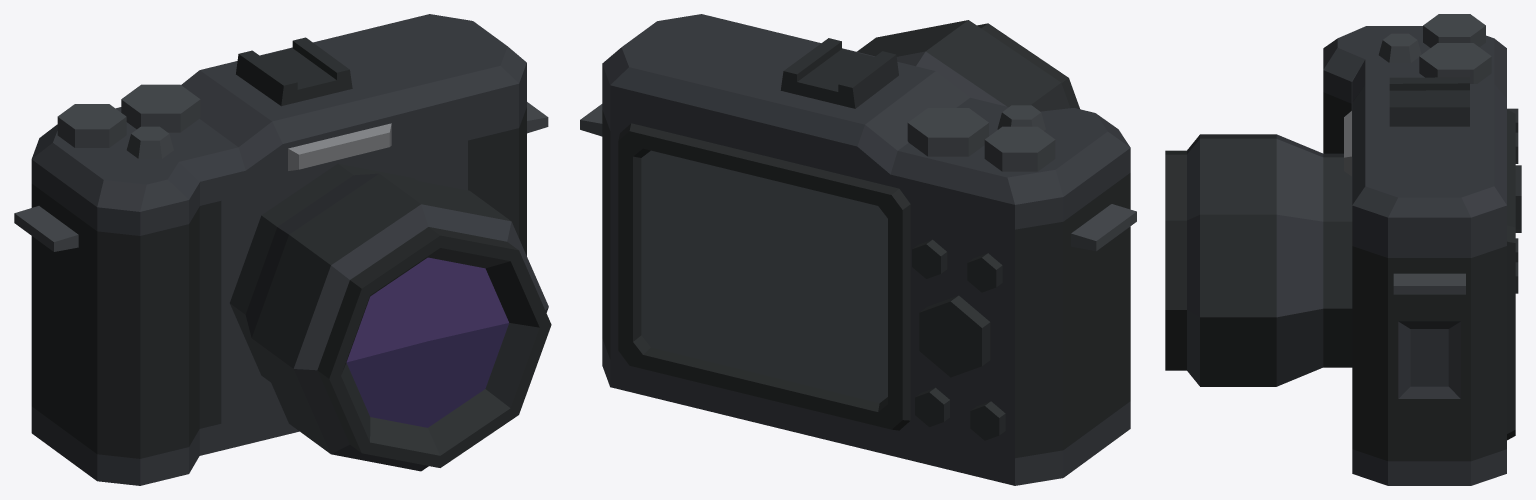
The model's file is SM_Prop_Computer_Camera_Mirrorless_02.obj.
3 renders of one model, left to right at view 1: azimuth 30°, elevation 25°; view 2: azimuth 150°, elevation 25°; view 3: azimuth 270°, elevation 25°, orthographic. The views are drawn at different scales.
Parts seen in each view (by area): view 1: SM_Prop_Computer_Camera_Mirrorless_02_0; view 2: SM_Prop_Computer_Camera_Mirrorless_02_0; view 3: SM_Prop_Computer_Camera_Mirrorless_02_0.
Boxes of the visible parts, left/top/right/bottom form: SM_Prop_Computer_Camera_Mirrorless_02_0: left=14, top=14, right=551, bottom=485; SM_Prop_Computer_Camera_Mirrorless_02_0: left=580, top=14, right=1136, bottom=485; SM_Prop_Computer_Camera_Mirrorless_02_0: left=1165, top=14, right=1521, bottom=485.
Bounding box in the file's own units: 0.218 × 0.1376 × 0.148.
1 material, 1 textured.
